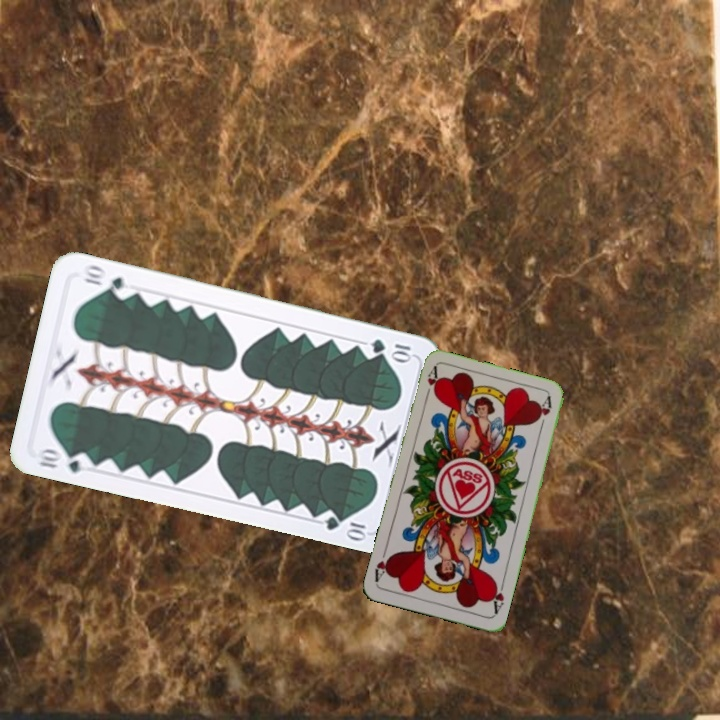G10: (33, 444, 94, 476), (367, 335, 416, 363)
HA: (421, 363, 442, 403), (487, 577, 507, 617)
